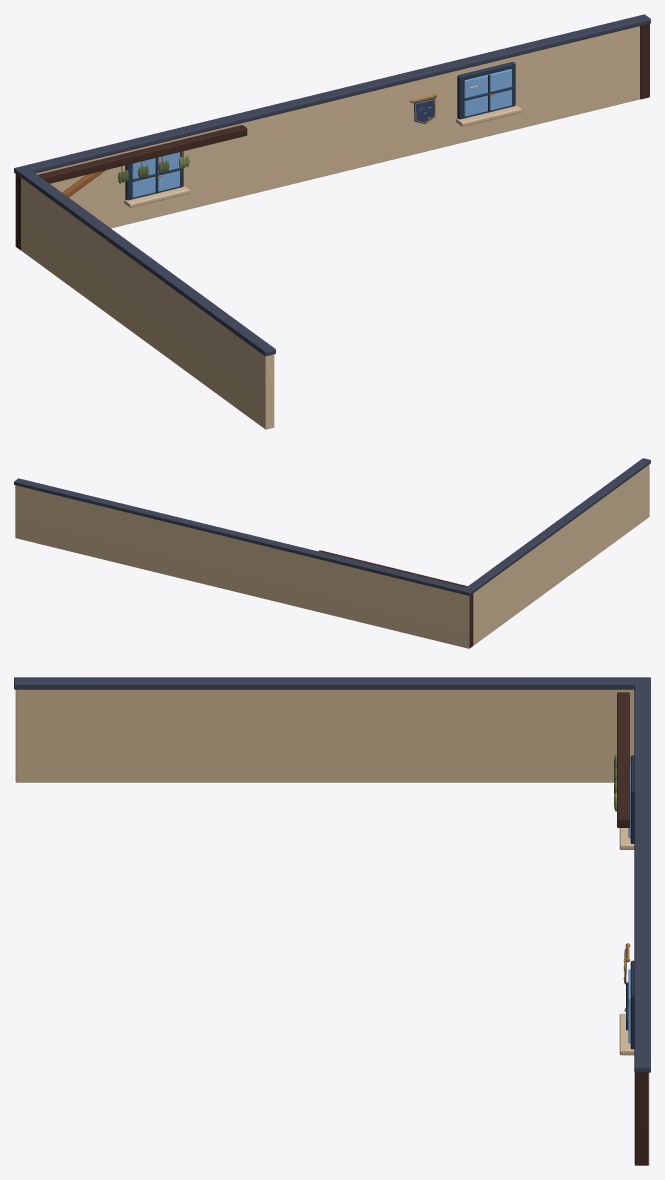
Rendered from rear-walls.glb.
3 renders of one model, top to bottom at view 1: azimuth 30°, elevation 25°; view 2: azimuth 150°, elevation 25°; view 3: azimuth 270°, elevation 25°, orthographic. The views are drawn at different scales.
Visible parts, largest first — view 1: rear_walls_pivot_Mesh; view 2: rear_walls_pivot_Mesh; view 3: rear_walls_pivot_Mesh.
Boxes of the visible parts, box(x1,y1,x2,y2) form: rear_walls_pivot_Mesh: box(14, 14, 650, 429); rear_walls_pivot_Mesh: box(14, 458, 650, 648); rear_walls_pivot_Mesh: box(14, 677, 650, 1165).
Size of the model in its own units: 18.61 by 2.22 by 12.84.
